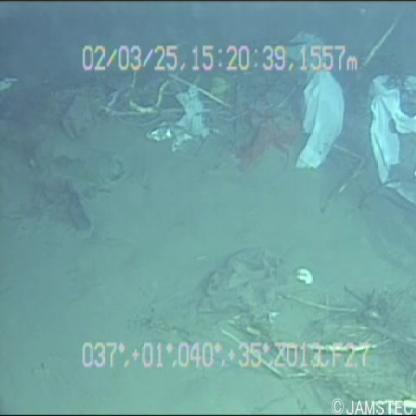Rác: (262, 34, 348, 174), (361, 63, 416, 215), (143, 81, 218, 154)
